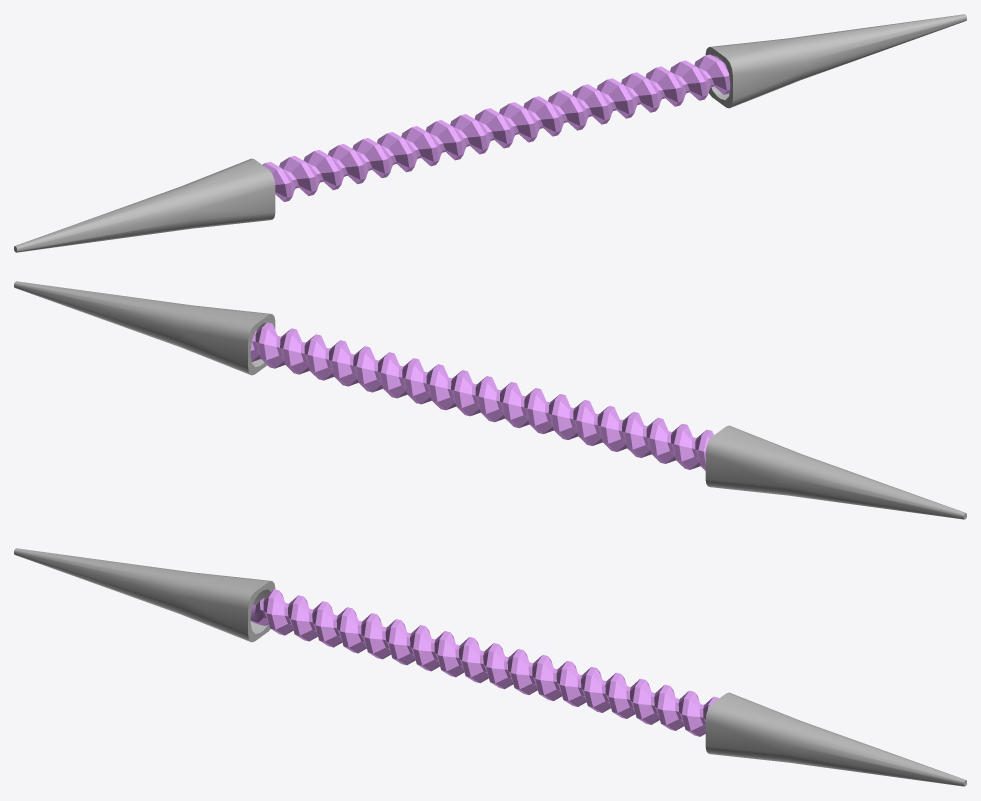
File: cloth_spiral_road.fbx
3 renders of one model, top to bottom at view 1: azimuth 30°, elevation 25°; view 2: azimuth 150°, elevation 25°; view 3: azimuth 330°, elevation 25°, orthographic.
Visible parts, largest first — view 1: cloth_spiral_road; view 2: cloth_spiral_road; view 3: cloth_spiral_road.
Part boxes in pixels (box(x1,y1,x2,y2)): cloth_spiral_road: box(14, 14, 966, 252); cloth_spiral_road: box(14, 281, 966, 519); cloth_spiral_road: box(14, 548, 966, 786).
Bounding box in the file's own units: 2515 × 125 × 125.
